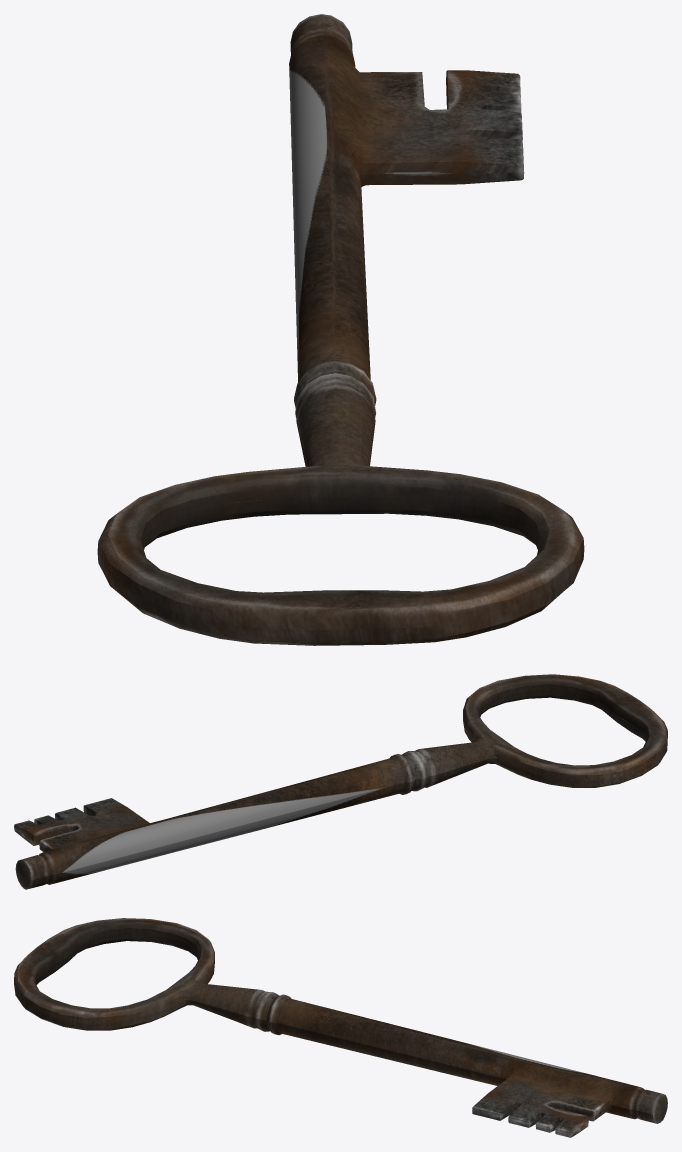
Rendered from Key.fbx.
3 views of the same model, one above another, from view 1: azimuth 30°, elevation 25°; view 2: azimuth 150°, elevation 25°; view 3: azimuth 270°, elevation 25° (orthographic). The views are drawn at different scales.
Visible parts, largest first — view 1: Key; view 2: Key; view 3: Key.
Part boxes in pixels (x1,y1,x2,y2): Key: (97,14,584,645); Key: (14,674,667,889); Key: (14,918,667,1137).
Bounding box in the file's own units: 0.0933 × 0.00822 × 0.1273.
Materials: 1 (1 with a texture image).
